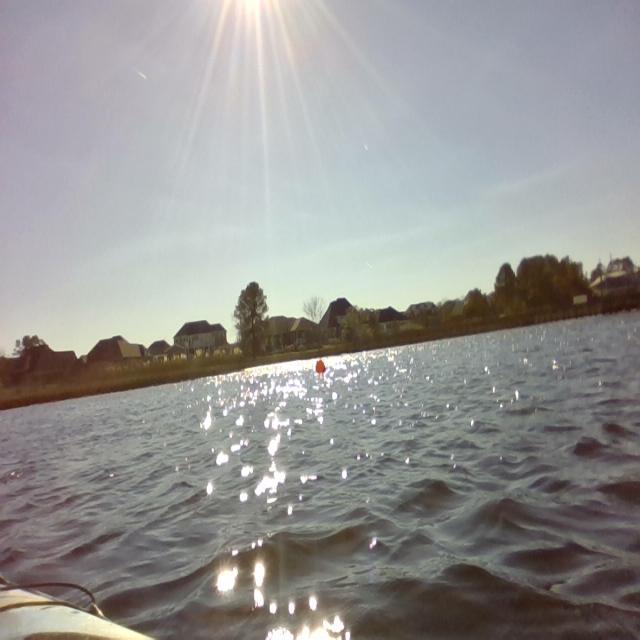Buoy: (312, 352, 329, 380)
